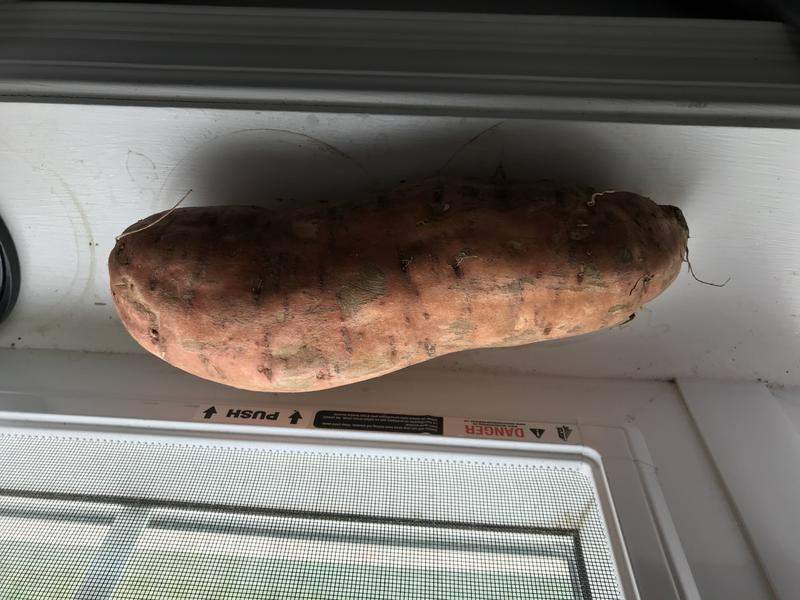sweet_potato: (95, 173, 716, 400)
